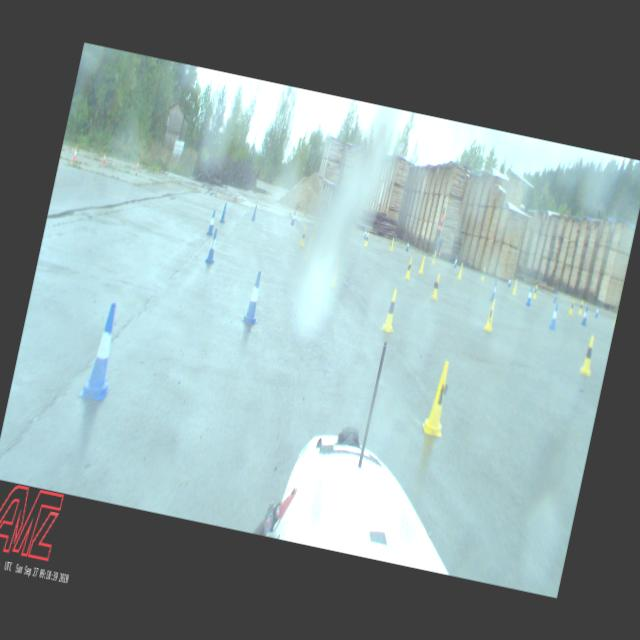blue_cone: (78, 300, 126, 402), (242, 270, 268, 324), (205, 227, 220, 263), (206, 210, 218, 236), (548, 304, 560, 328), (220, 202, 228, 222), (490, 280, 498, 300), (581, 307, 589, 325), (525, 287, 533, 305), (251, 204, 258, 220), (551, 288, 558, 304), (290, 211, 296, 224), (452, 255, 458, 268), (594, 305, 600, 318), (362, 228, 368, 238), (405, 239, 410, 250), (507, 275, 512, 286)
orange_cone: (72, 146, 78, 160), (102, 152, 106, 164), (136, 160, 140, 170)
yellow_cone: (421, 359, 456, 436), (380, 288, 401, 332), (579, 335, 597, 375), (483, 299, 498, 331), (328, 256, 342, 287), (431, 273, 442, 299), (302, 237, 312, 260), (404, 258, 413, 280), (299, 226, 307, 246), (310, 222, 318, 242), (418, 256, 426, 274), (457, 262, 464, 278), (511, 278, 518, 294), (578, 300, 584, 314), (568, 300, 574, 314), (532, 285, 538, 298), (431, 251, 437, 264), (481, 266, 486, 281), (364, 232, 369, 246), (390, 238, 394, 250)
